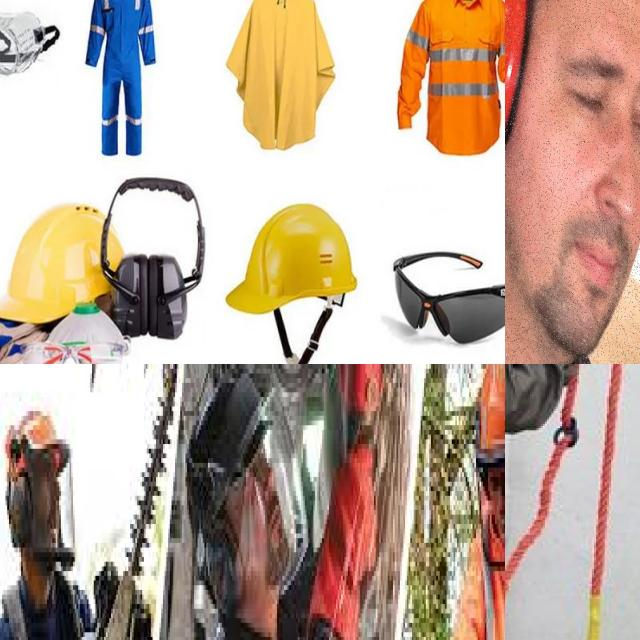Ear-protection: (100, 186, 212, 332), (505, 0, 535, 176), (194, 501, 239, 614), (1, 463, 34, 552)
hand_glove: (306, 364, 385, 640)
head_helmet: (182, 374, 268, 514), (2, 402, 70, 458), (471, 364, 505, 463)
person: (171, 364, 379, 640), (505, 0, 640, 364), (0, 392, 126, 640), (433, 364, 505, 640)
